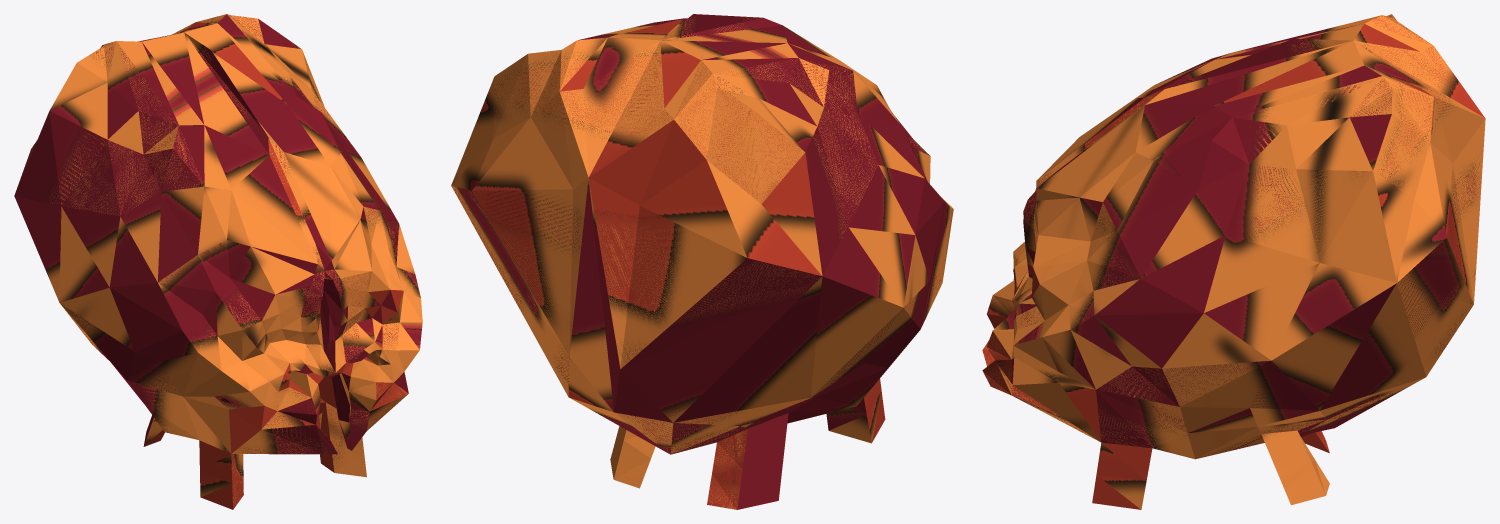
File: Mite_2.obj
3 renders of one model, left to right at view 1: azimuth 30°, elevation 25°; view 2: azimuth 150°, elevation 25°; view 3: azimuth 270°, elevation 25°, orthographic. The views are drawn at different scales.
Visible parts, largest first — view 1: Plane.001; view 2: Plane.001; view 3: Plane.001.
Part boxes in pixels (x1,y1,x2,y2): Plane.001: [14, 14, 422, 509]; Plane.001: [451, 14, 953, 509]; Plane.001: [982, 14, 1485, 509].
Bounding box in the file's own units: 6.55 × 7.38 × 7.83.
Materials: 1 (1 with a texture image).
